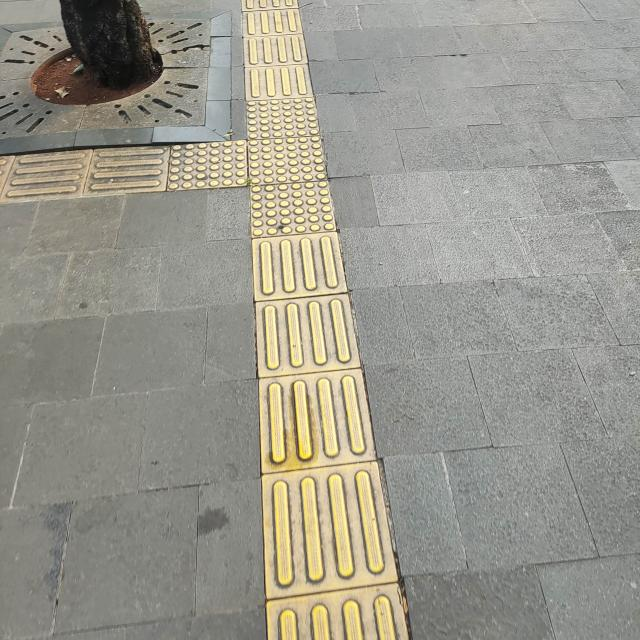lurus: (243, 199, 390, 640), (238, 2, 308, 107)
